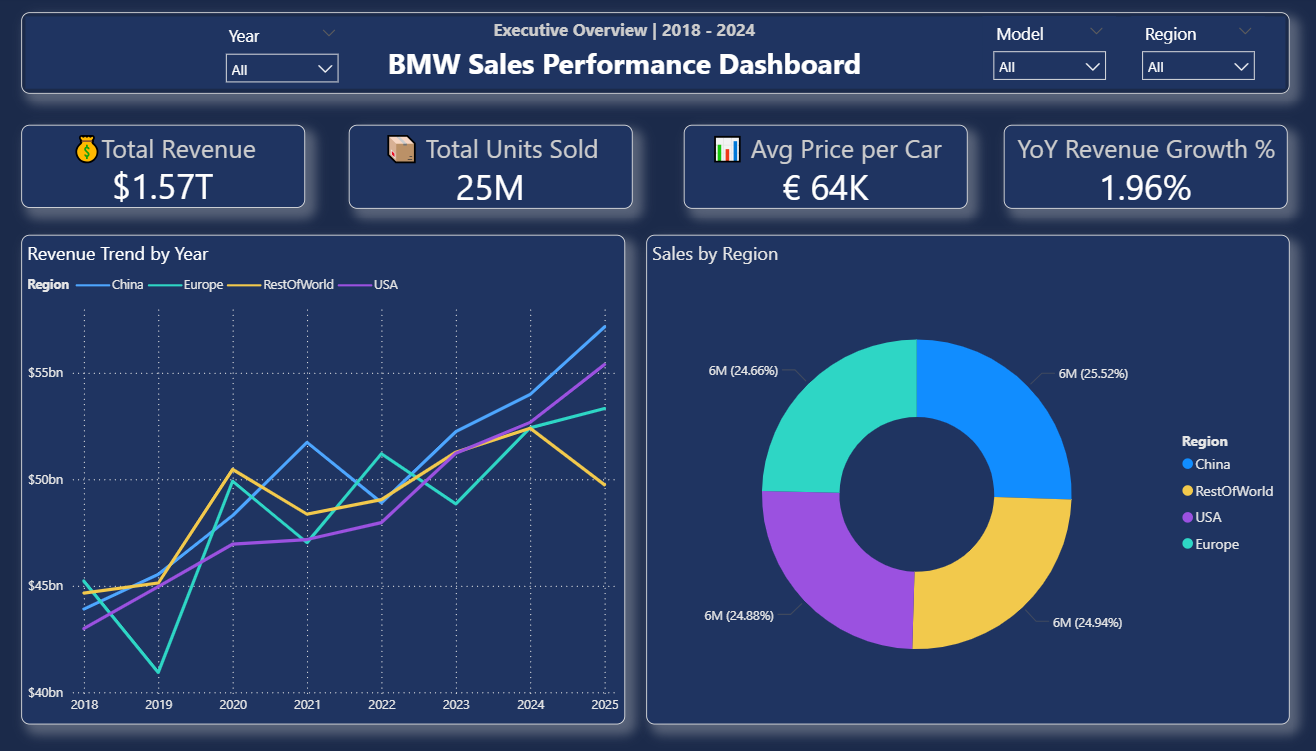

What the dashboard file says about the page in this screenshot:
{"tool":"powerbi","page":{"name":"Executive Overview","canvas":[1280,720],"ordinal":0},"visuals":[{"type":"shape","box":[44,15.5,1208.3,77.4],"z":0},{"type":"card","title":"💰Total Revenue","fields":{"Values":["_Measures.Total Revenue"]},"box":[43.9,122.1,270.3,79.6],"z":1000},{"type":"card","title":"📦 Total Units Sold","fields":{"Values":["_Measures.Total Units Sold"]},"box":[356,122.6,270.2,79.8],"z":2000},{"type":"card","title":"📊 Avg Price per Car","fields":{"Values":["_Measures.Avg Price Per Car"]},"box":[675,122.6,270.2,79.8],"z":3000},{"type":"card","title":"YoY Revenue Growth %","fields":{"Values":["_Measures.YoY Revenue Growth %"]},"box":[979.8,122.6,270.2,79.8],"z":4000},{"type":"lineChart","title":"Revenue Trend by Year","fields":{"Category":["Bmw Sales.Year"],"Y":["_Measures.Total Revenue"],"Series":["Dim_Region.Region"]},"box":[43.9,227.8,575,466.6],"z":5000},{"type":"donutChart","title":"Sales by Region","fields":{"Category":["Dim_Region.Region"],"Y":["_Measures.Total Units Sold"]},"box":[639.3,227.4,613.1,466.7],"z":6000},{"type":"textbox","box":[338.1,15.3,560.7,75.1],"z":7000},{"type":"slicer","fields":{"Values":["Bmw Sales.Year"]},"box":[228.6,21.4,127.4,65.5],"z":8000},{"type":"slicer","fields":{"Values":["Dim_Region.Region"]},"box":[1101.2,19,127.4,65.5],"z":9000},{"type":"slicer","fields":{"Values":["Dim_Model.Model"]},"box":[959.5,19,127.4,65.5],"z":10000}]}

Visuals, with their boxes in screenshot pixels (x1, y1, x2, y2), scaled from the page's 1280x720 canvas onto the 1316x751 screenshot:
shape: box=[45, 16, 1288, 97]
"💰Total Revenue" card: box=[45, 127, 323, 210]
"📦 Total Units Sold" card: box=[366, 128, 644, 211]
"📊 Avg Price per Car" card: box=[694, 128, 972, 211]
"YoY Revenue Growth %" card: box=[1007, 128, 1285, 211]
"Revenue Trend by Year" lineChart: box=[45, 238, 636, 724]
"Sales by Region" donutChart: box=[657, 237, 1288, 724]
textbox: box=[348, 16, 924, 94]
slicer - Bmw Sales.Year: box=[235, 22, 366, 91]
slicer - Dim_Region.Region: box=[1132, 20, 1263, 88]
slicer - Dim_Model.Model: box=[986, 20, 1117, 88]
